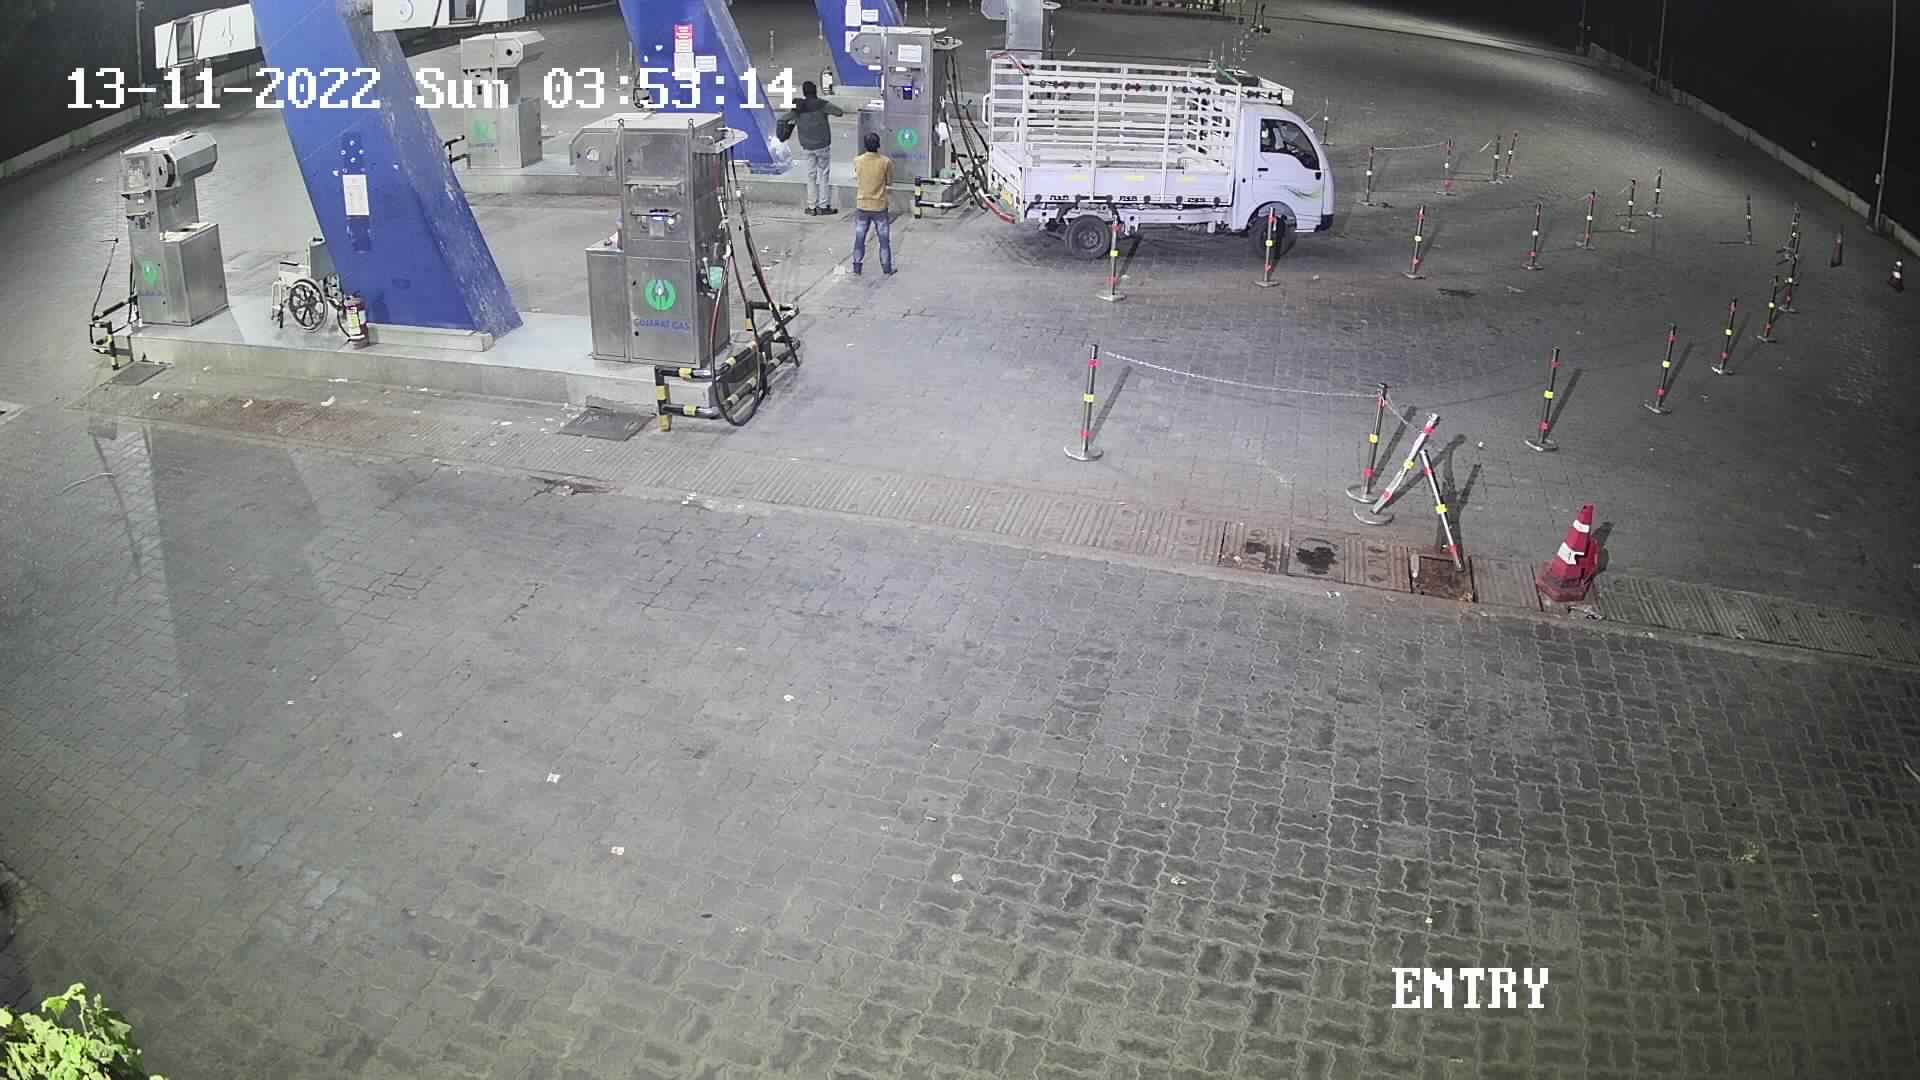Car: (971, 33, 1346, 266)
